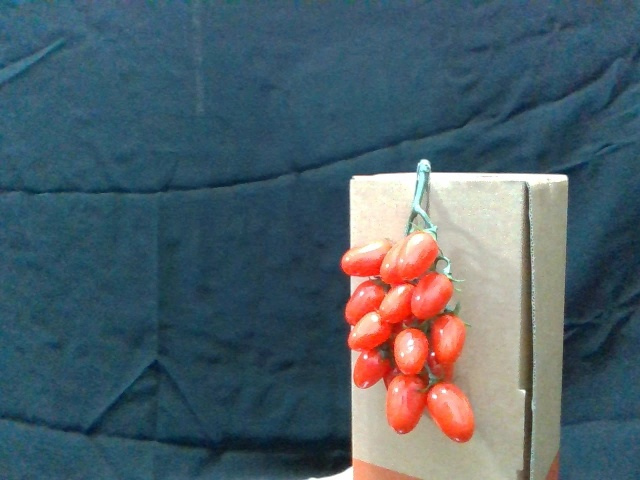tomato: (428, 379, 476, 441), (388, 372, 429, 438), (428, 312, 466, 373), (340, 279, 386, 326), (393, 324, 431, 378), (397, 231, 438, 280), (412, 274, 454, 320), (352, 344, 391, 390), (340, 240, 390, 275), (348, 314, 393, 352), (381, 284, 415, 327)
